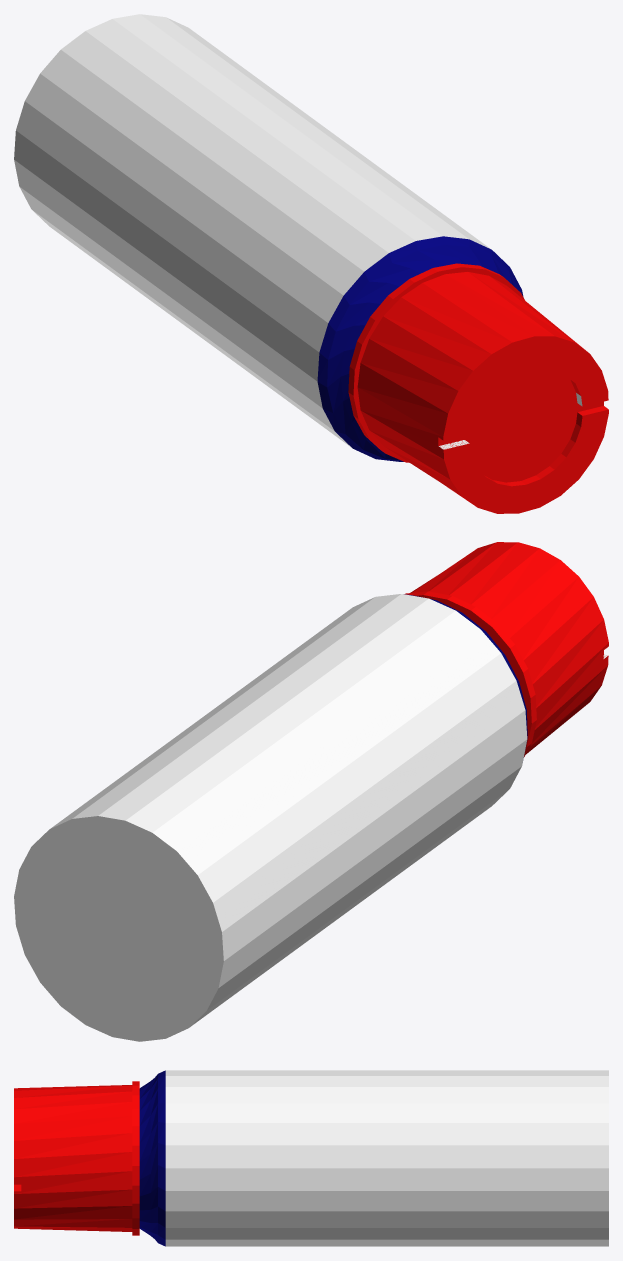
3 renders of one model, top to bottom at view 1: azimuth 30°, elevation 25°; view 2: azimuth 150°, elevation 25°; view 3: azimuth 270°, elevation 25°, orthographic. The views are drawn at different scales.
Visible parts, largest first — view 1: wd oz can; view 2: wd oz can; view 3: wd oz can.
Boxes of the visible parts, box(x1,y1,x2,y2) form: wd oz can: box(14, 14, 608, 513); wd oz can: box(14, 542, 608, 1041); wd oz can: box(14, 1070, 608, 1246).
Bounding box in the file's own units: 1.5 × 1.5 × 5.03.
